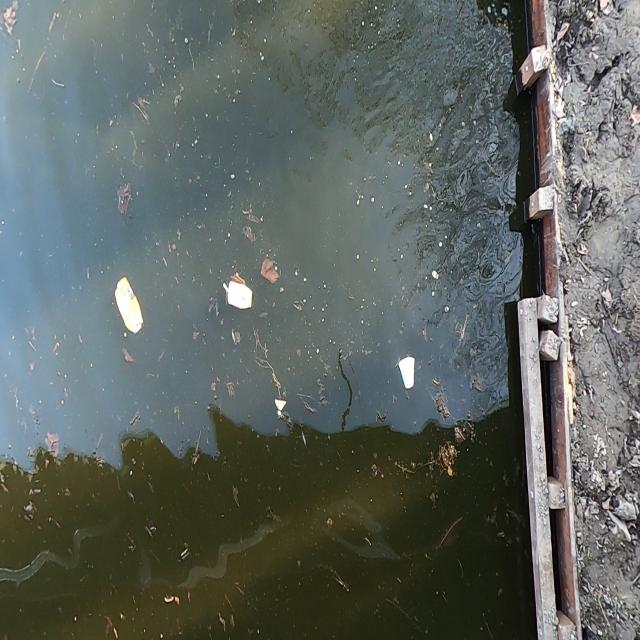Non plastique: (110, 268, 149, 336), (216, 270, 256, 315), (394, 349, 422, 395)
